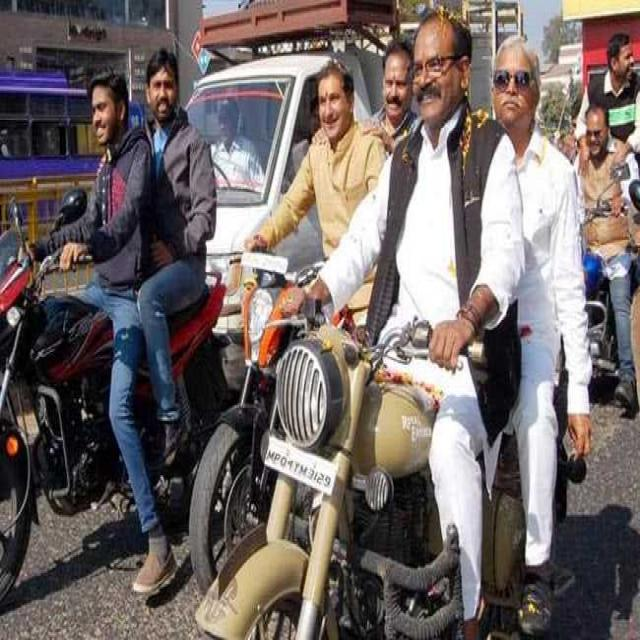Not Wearing Helmet: (388, 0, 472, 140), (84, 75, 144, 151), (564, 92, 620, 162), (314, 52, 354, 132)
